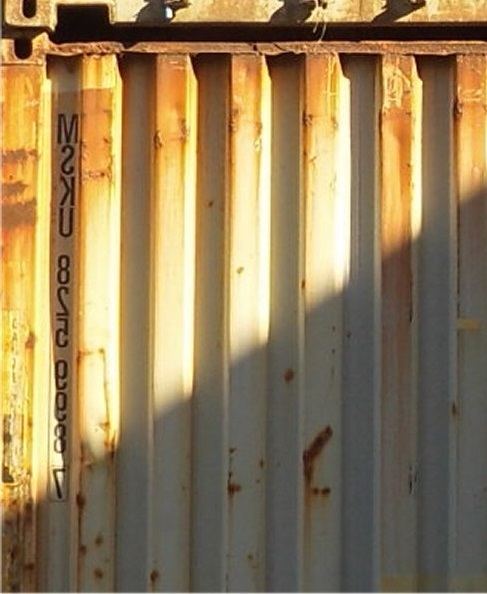container_no_door: (1, 31, 484, 590)
